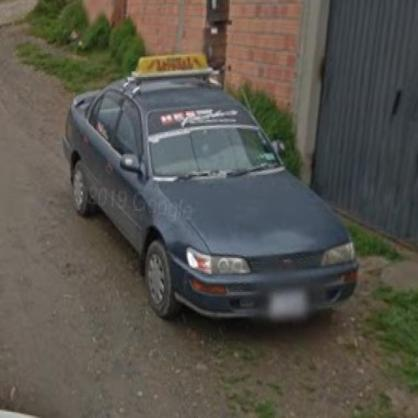car: (65, 84, 363, 327)
